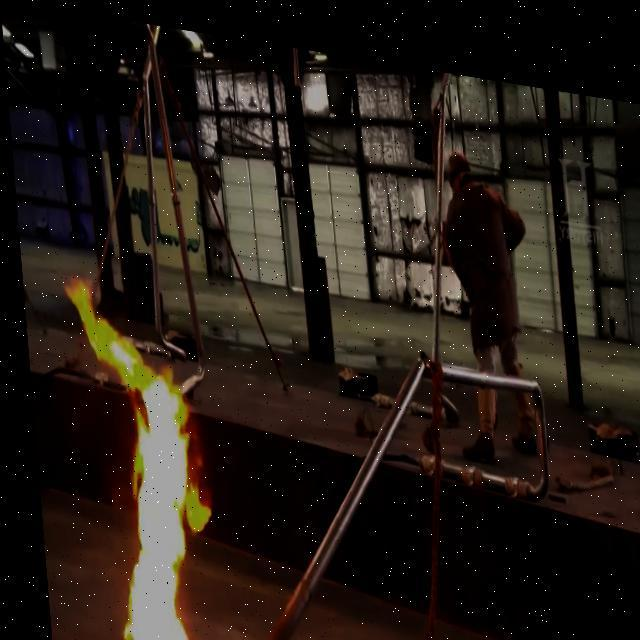Fire: (58, 260, 213, 639)
